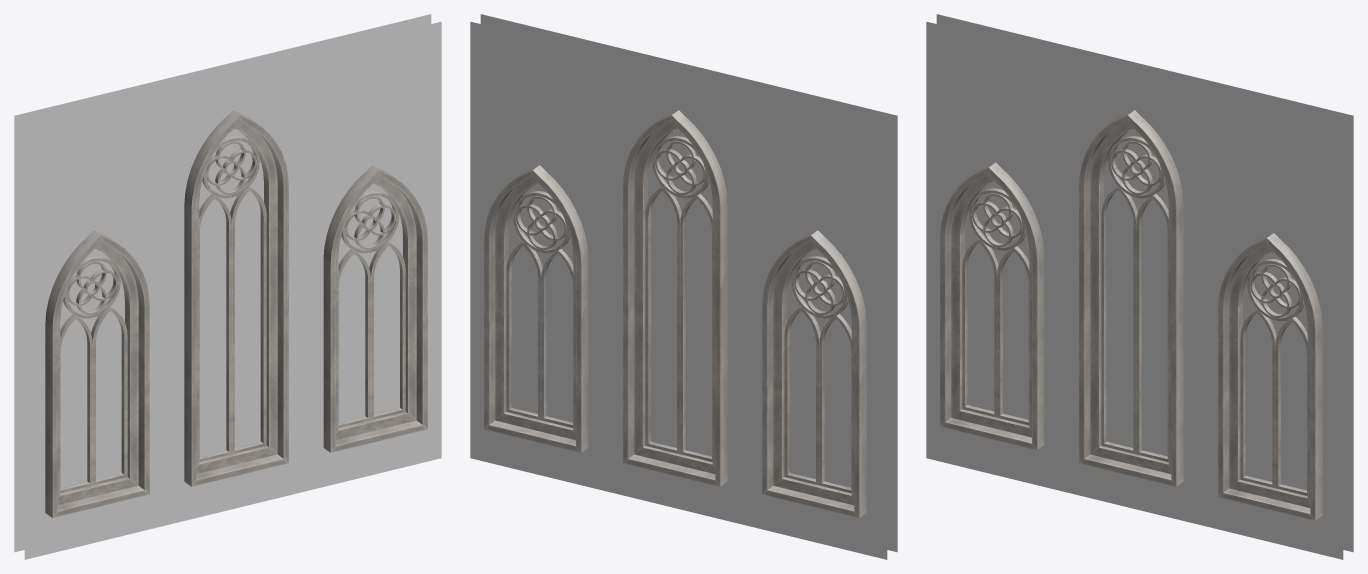
File: Wall_Window_J_B.fbx
3 renders of one model, left to right at view 1: azimuth 30°, elevation 25°; view 2: azimuth 150°, elevation 25°; view 3: azimuth 330°, elevation 25°, orthographic.
Parts seen in each view (by area): view 1: Wall_Window_J_B; view 2: Wall_Window_J_B; view 3: Wall_Window_J_B.
Part boxes in pixels (x1=…): Wall_Window_J_B: x1=14, y1=14, x2=441, y2=559; Wall_Window_J_B: x1=470, y1=14, x2=897, y2=559; Wall_Window_J_B: x1=926, y1=14, x2=1353, y2=559.
Bounding box in the file's own units: 6 × 0.6115 × 6.
